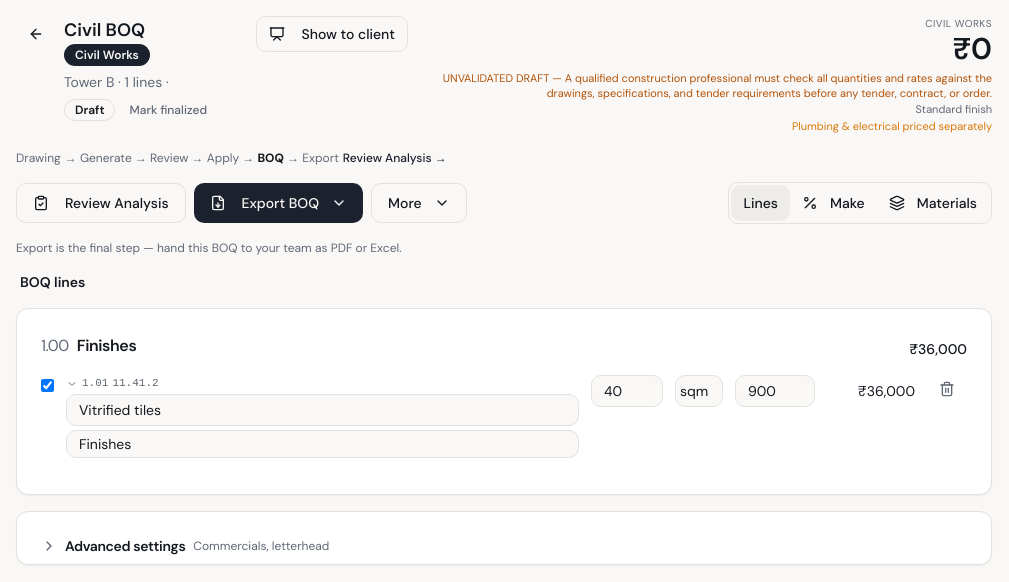
Test: OpsBoqBuilder — quantity field follows the saved value › a re-read mid-edit neither replaces the typed text nor gets overwritten by it
Replace the text in the number field named "Quantity for Vitrified tiles" with "45". click: point(627, 391)
box: [591,375,663,407]
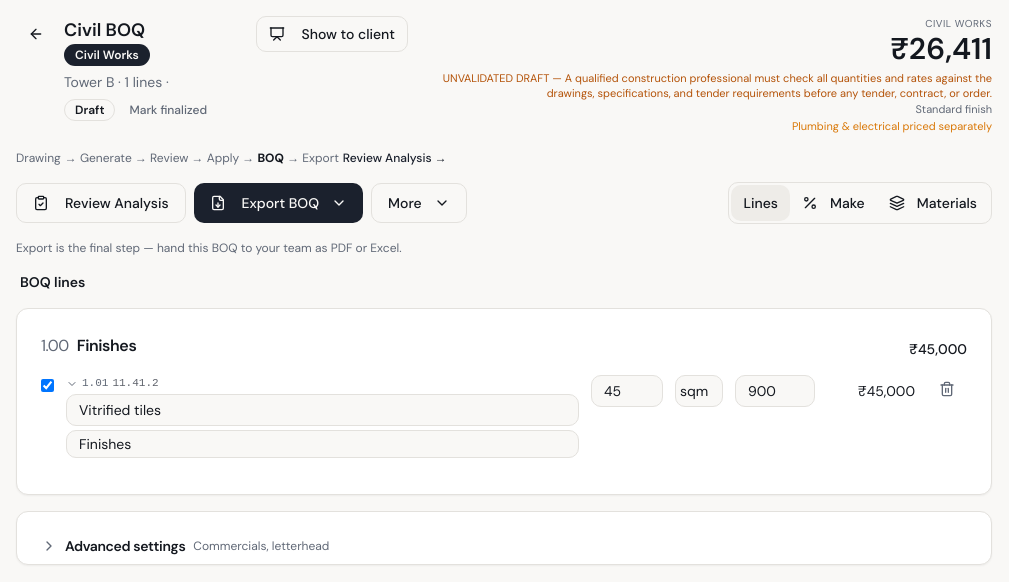
Leave the number field named "Quantity for Vitrified tiles", box [591,375,663,407]
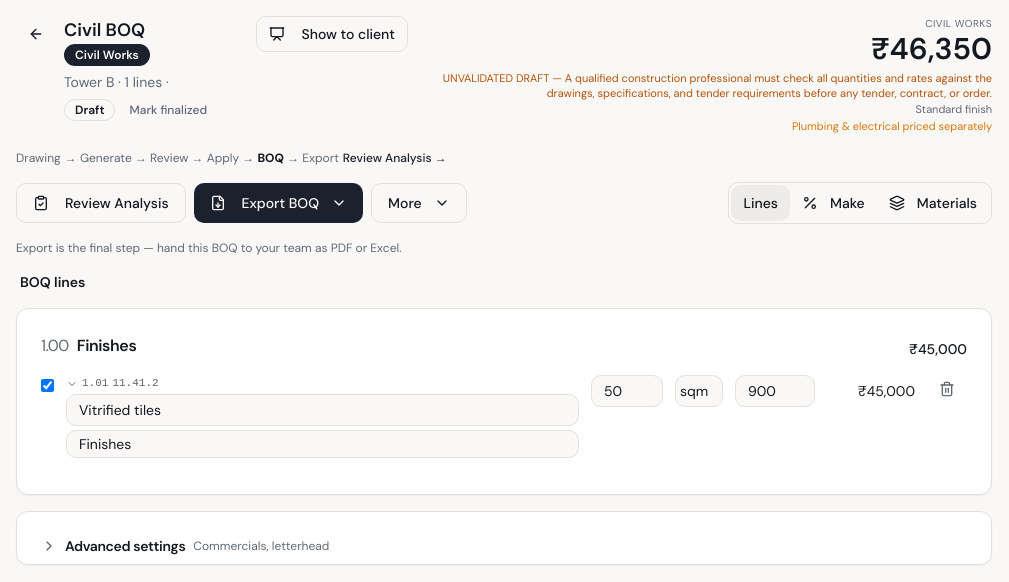
Now the number field named "Quantity for Vitrified tiles" holds "50", box [591,375,663,407]
